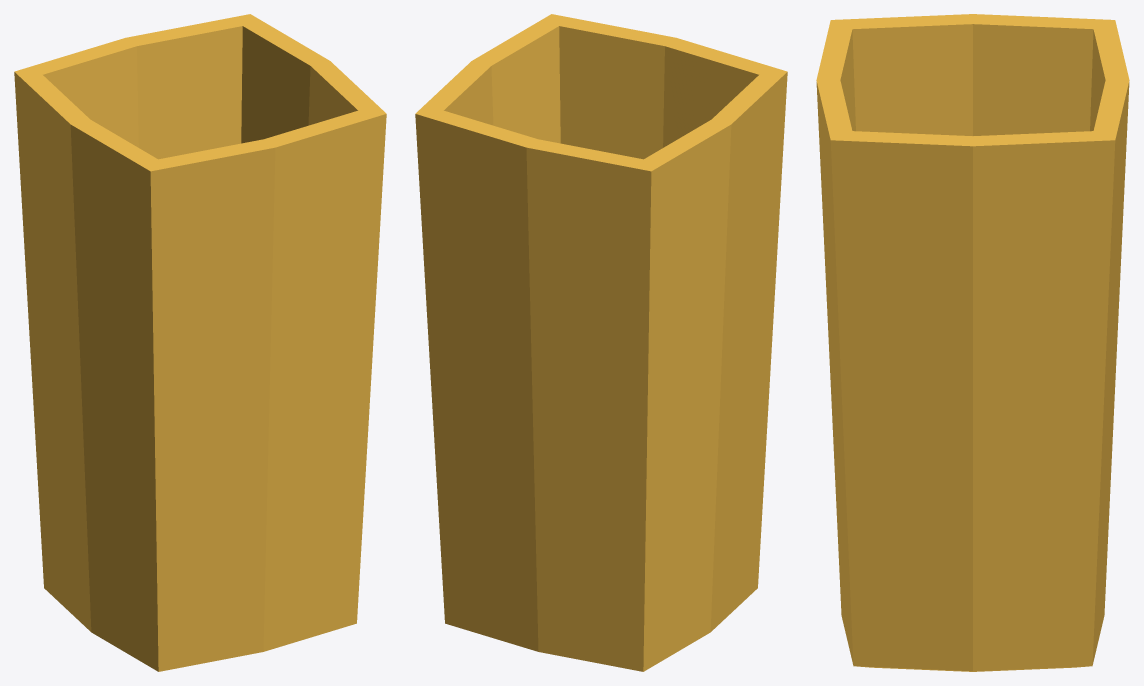
Rendered from bigCup_2025.dae.
3 views of the same model, side by side, from view 1: azimuth 30°, elevation 25°; view 2: azimuth 150°, elevation 25°; view 3: azimuth 270°, elevation 25° (orthographic). The views are drawn at different scales.
Visible parts, largest first — view 1: BigCup; view 2: BigCup; view 3: BigCup.
Part boxes in pixels (x1,y1,x2,y2): BigCup: [14, 14, 386, 671]; BigCup: [415, 14, 787, 671]; BigCup: [816, 14, 1129, 671].
Bounding box in the file's own units: 1.71 × 1.71 × 3.29.
